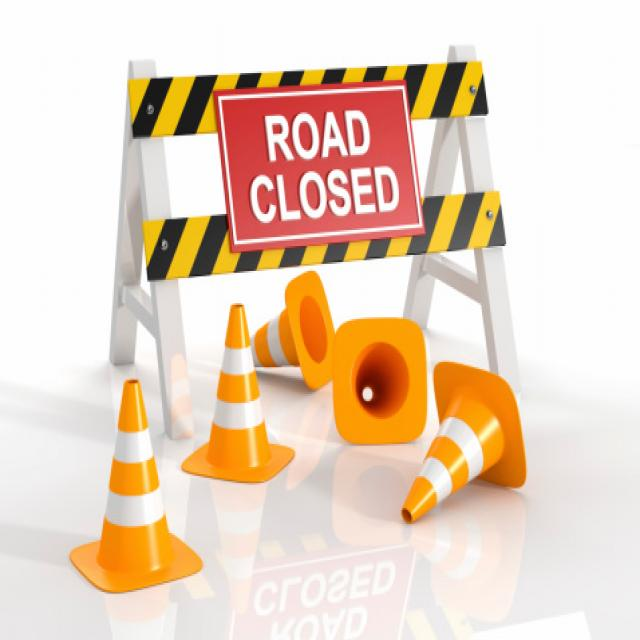cone: (54, 374, 211, 605)
